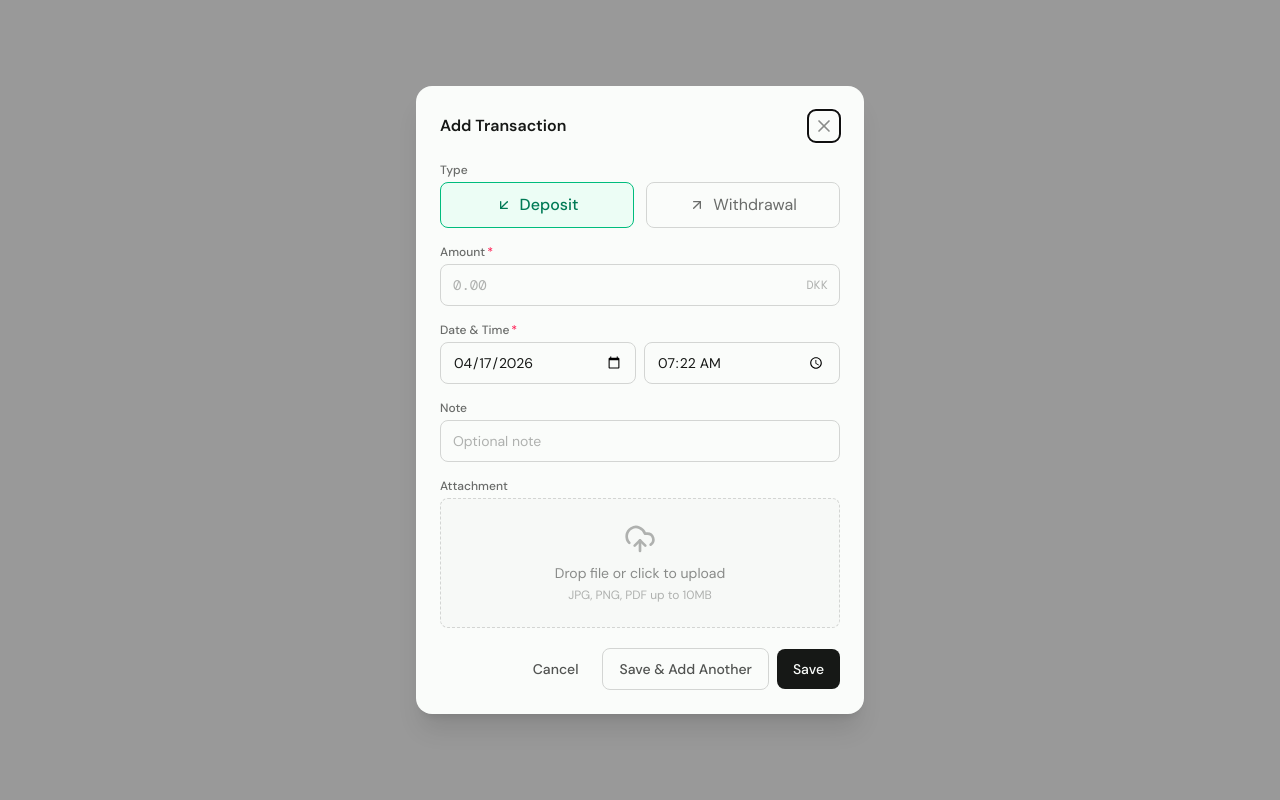
Scenario: TransactionDialog › Validation › shows error when amount is zero
Type "0" into the number field with placeholder "0.00" at (640, 285), box [440, 264, 840, 306]
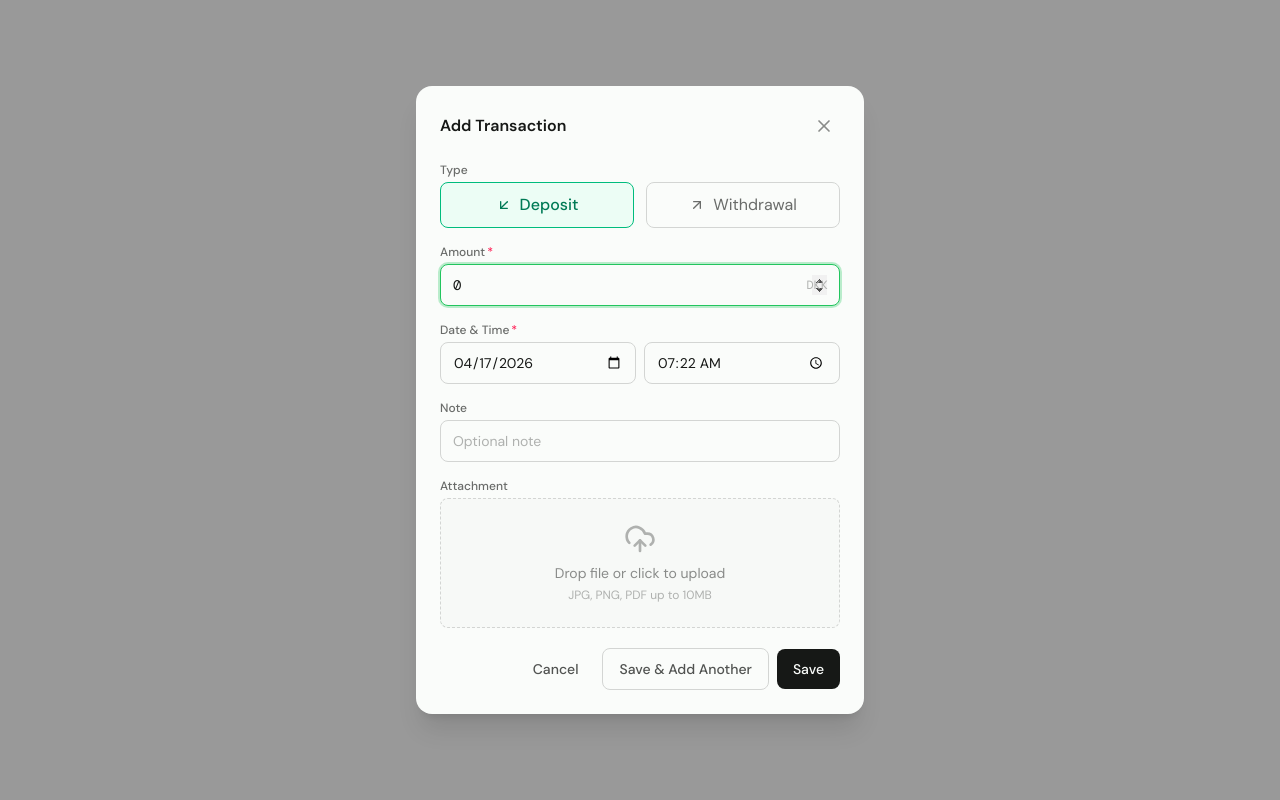
Click the button "Save" at (808, 669), box [777, 649, 840, 689]
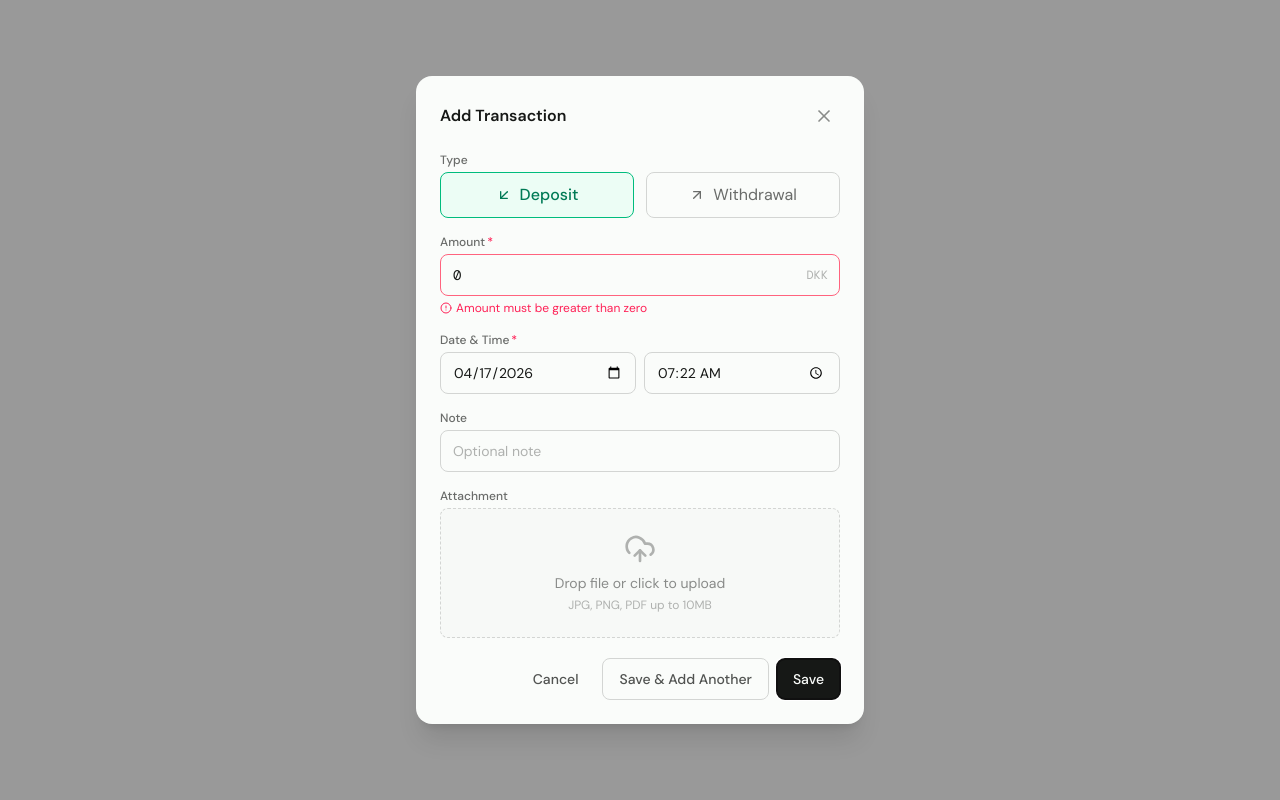
Expected: the text "Amount must be greater than zero" is shown, [440, 300, 647, 316]
